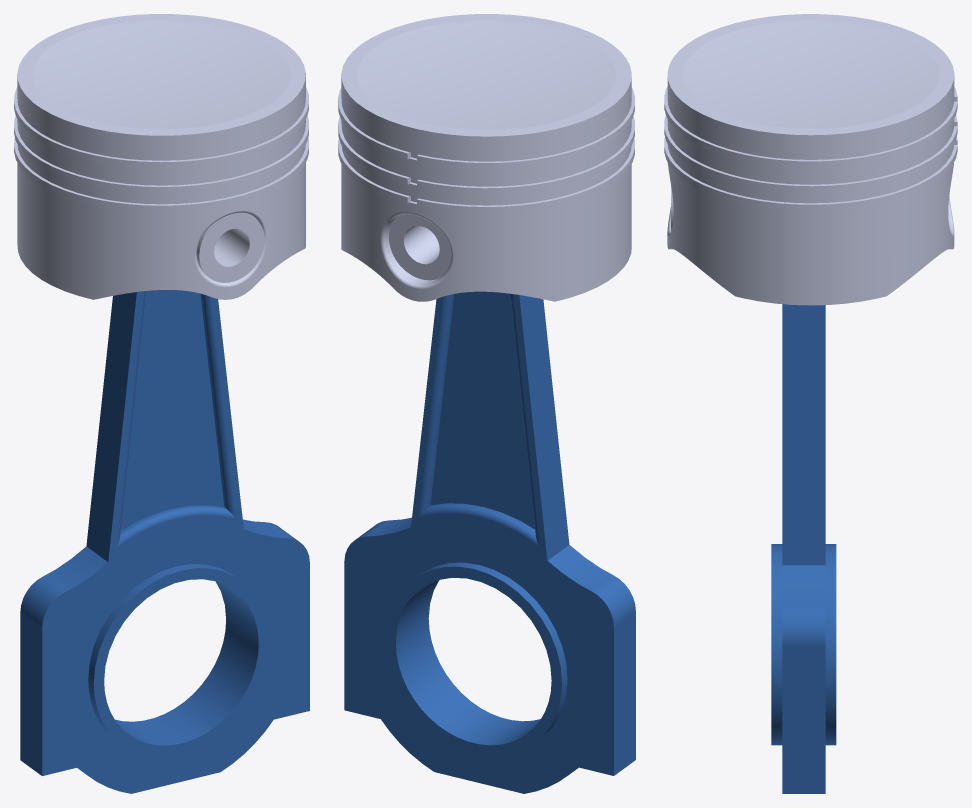
The picture shows the model from 3 angles, left to right: view 1: azimuth 30°, elevation 25°; view 2: azimuth 150°, elevation 25°; view 3: azimuth 270°, elevation 25°; orthographic projection.
Parts seen in each view (by area): view 1: currentmodel.wrl.cleaner.materialmerger.gles; view 2: currentmodel.wrl.cleaner.materialmerger.gles; view 3: currentmodel.wrl.cleaner.materialmerger.gles.
Boxes of the visible parts, x1=… form: currentmodel.wrl.cleaner.materialmerger.gles: x1=14, y1=14, x2=309, y2=793; currentmodel.wrl.cleaner.materialmerger.gles: x1=338, y1=14, x2=635, y2=793; currentmodel.wrl.cleaner.materialmerger.gles: x1=664, y1=14, x2=957, y2=793.
Bounding box in the file's own units: 90 × 224 × 85.9.
